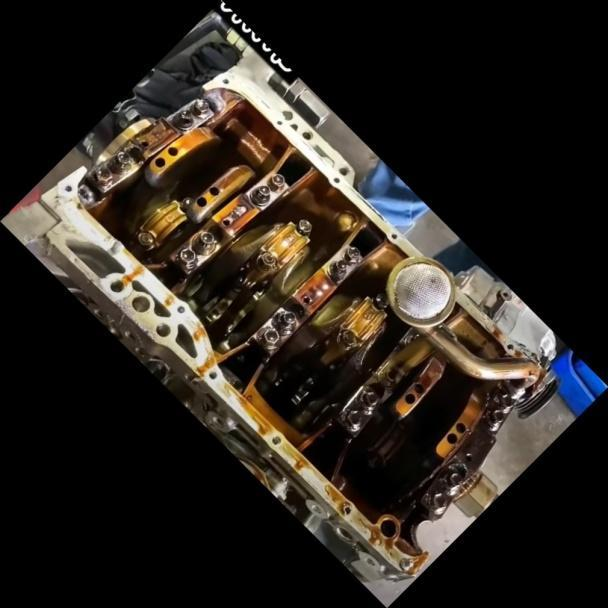hole: (152, 319, 173, 340), (107, 276, 128, 297), (206, 368, 219, 381), (270, 434, 283, 447), (504, 341, 516, 353), (175, 304, 186, 315), (62, 183, 73, 193), (274, 117, 284, 128), (331, 174, 341, 185), (219, 75, 229, 86), (388, 231, 397, 241)
